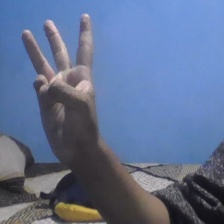W: (20, 12, 105, 162)
